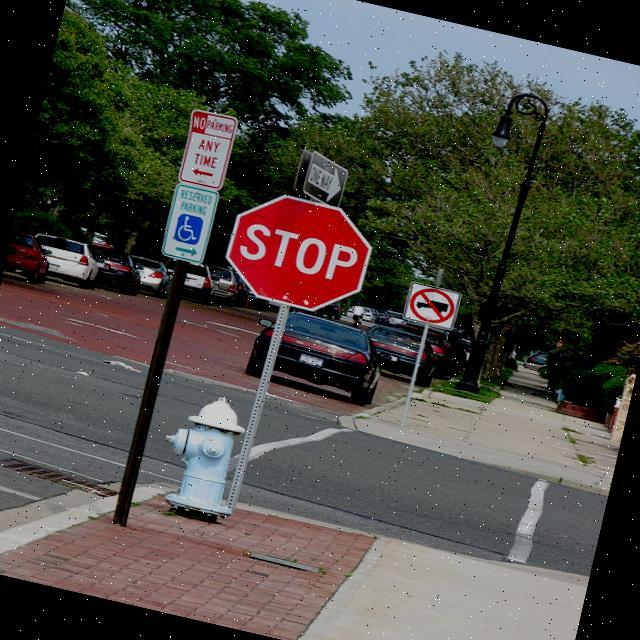fire_hydrant: (146, 382, 259, 525)
